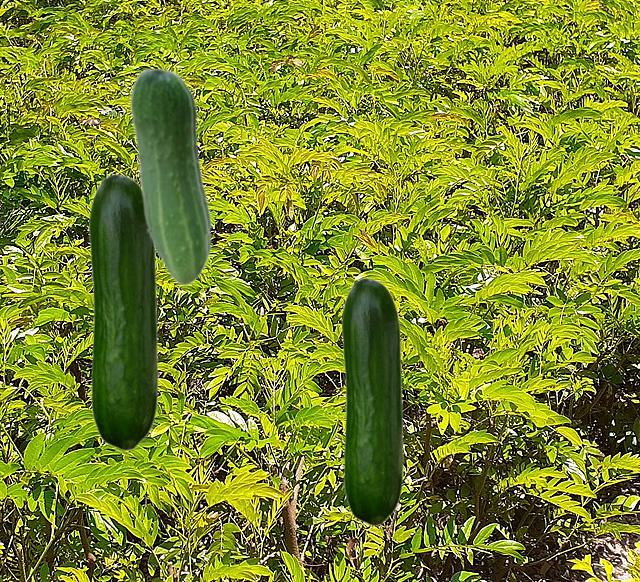cucumber: (88, 173, 158, 450), (129, 66, 209, 285), (341, 277, 403, 525), (176, 72, 212, 259)
